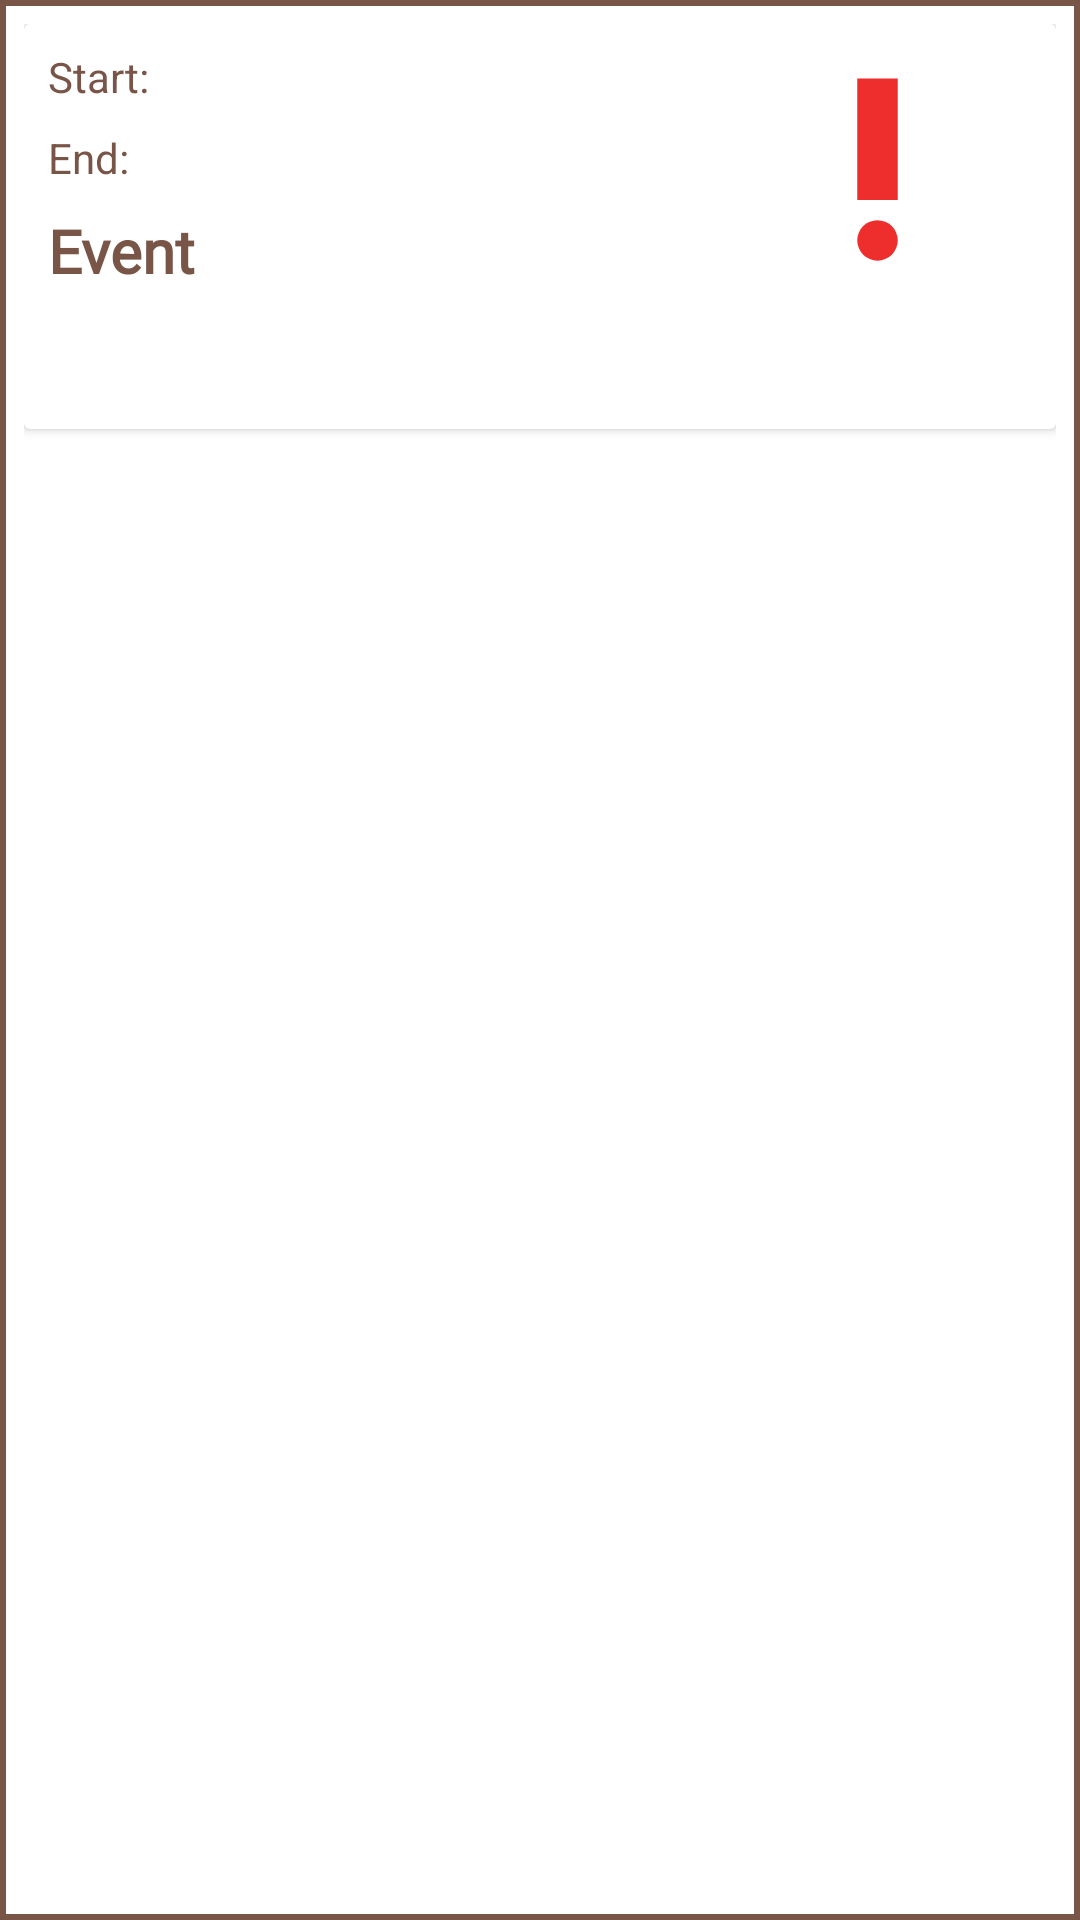

Where icons sit on this 1080 x 1920 app screen, as (x1, y1, x2, y2):
priority high: (857, 78, 898, 261)
